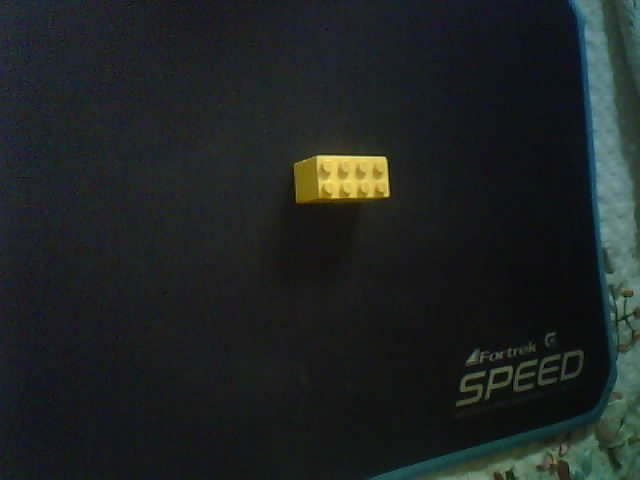lego: (292, 153, 391, 205)
